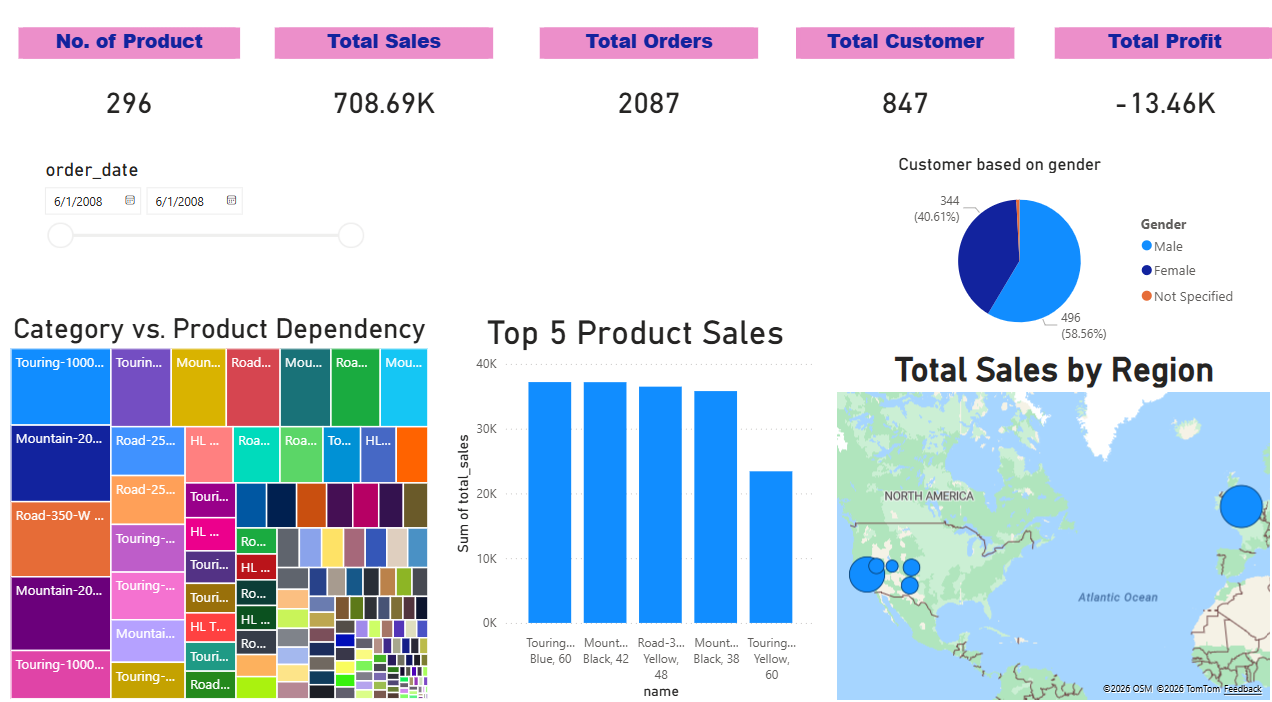

Layout of this report page (visuals, bound fields, positions):
{"tool":"powerbi","page":{"name":"Page 1","canvas":[1280,720],"ordinal":0},"visuals":[{"type":"card","title":"No. of Product","fields":{"Values":["CountNonNull(Product.product_id)"]},"box":[22.9,37.1,221.4,120],"z":0},{"type":"card","title":"Total Sales","fields":{"Values":["Sum(SalesOrderDetail.line_total)"]},"box":[278.6,37.1,218.6,120],"z":1000},{"type":"card","title":"Total Customer","fields":{"Values":["CountNonNull(Customer.customer_id)"]},"box":[800,37.1,218.6,120],"z":2000},{"type":"columnChart","title":"Top 5 Product Sales","fields":{"Category":["Product.name"],"Y":["Sum(SalesOrderDetail.line_total)"]},"box":[454.3,322.9,371.4,391.4],"z":3000},{"type":"azureMap","title":"Total Sales by Region","fields":{"Category":["Address.state_province","Address.country_region"],"Size":["Sum(SalesOrderDetail.total_sales)"]},"box":[835.7,360,444.3,354.3],"z":4000},{"type":"treemap","title":"Category vs. Product Dependency","fields":{"Group":["Product.name"],"Values":["Sum(SalesOrderDetail.total_sales)"]},"box":[10,322.9,427.1,391.4],"z":5000},{"type":"card","title":"Total Orders","fields":{"Values":["Sum(SalesOrderDetail.order_qty)"]},"box":[544.3,37.1,218.6,120],"z":6000},{"type":"pieChart","title":"Customer based on gender","fields":{"Category":["Customer.Gender"],"Y":["CountNonNull(Customer.Gender)"]},"box":[897.1,164.3,354.3,195.7],"z":7000},{"type":"slicer","fields":{"Values":["DateTable.Date1"]},"box":[35.7,164.3,340,158.6],"z":8000},{"type":"card","title":"Total Profit","fields":{"Values":["SalesOrderDetail.Total Profit"]},"box":[1058.6,37.1,220,120],"z":9000}]}

Visuals, with their boxes in screenshot pixels (x1, y1, x2, y2), scaled from the page's 1280x720 canvas onto the 1272x702 screenshot:
"No. of Product" card: rect(23, 36, 243, 153)
"Total Sales" card: rect(277, 36, 494, 153)
"Total Customer" card: rect(795, 36, 1012, 153)
"Top 5 Product Sales" columnChart: rect(451, 315, 821, 696)
"Total Sales by Region" azureMap: rect(830, 351, 1271, 696)
"Category vs. Product Dependency" treemap: rect(10, 315, 434, 696)
"Total Orders" card: rect(541, 36, 758, 153)
"Customer based on gender" pieChart: rect(891, 160, 1244, 351)
slicer - DateTable.Date1: rect(35, 160, 373, 315)
"Total Profit" card: rect(1052, 36, 1271, 153)
